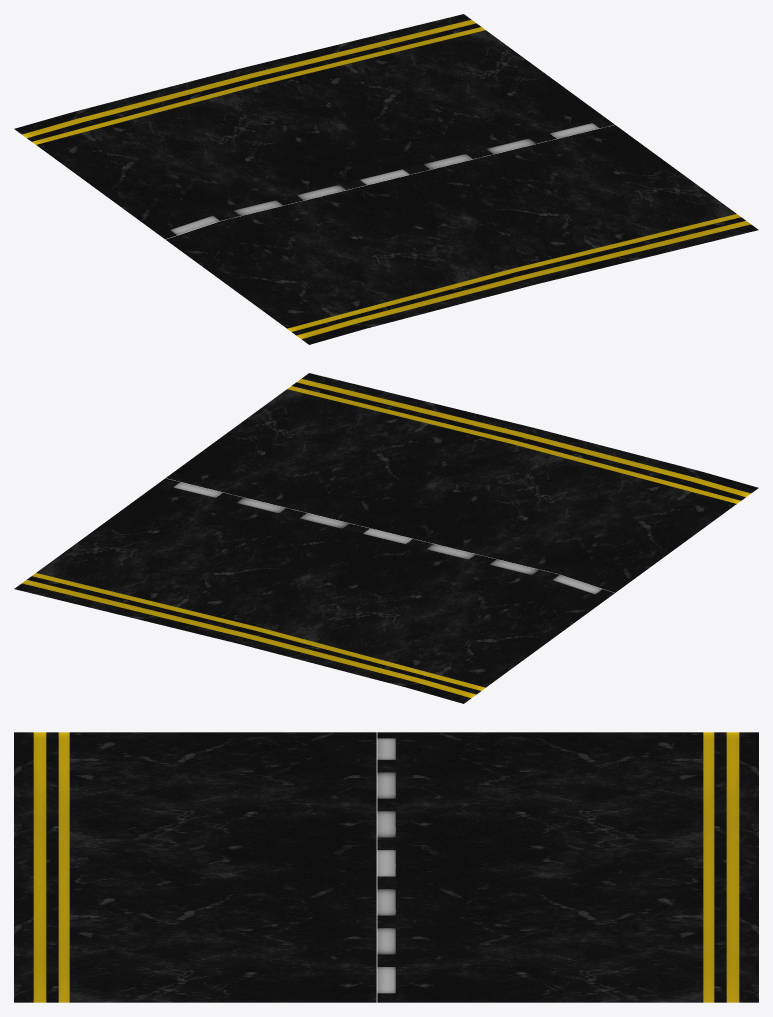
File: RoadLanehorizontal.fbx
3 views of the same model, one above another, from view 1: azimuth 30°, elevation 25°; view 2: azimuth 150°, elevation 25°; view 3: azimuth 270°, elevation 25° (orthographic). The views are drawn at different scales.
Visible parts, largest first — view 1: RoadLaneRight, RoadLaneLeft, DottedLines; view 2: RoadLaneLeft, RoadLaneRight, DottedLines; view 3: RoadLaneLeft, RoadLaneRight, DottedLines.
Part boxes in pixels (box(x1,y1,x2,y2)): RoadLaneRight: box(166, 125, 758, 344); RoadLaneLeft: box(14, 14, 606, 233); DottedLines: box(158, 119, 614, 239); RoadLaneLeft: box(14, 484, 606, 703); RoadLaneRight: box(166, 373, 758, 592); DottedLines: box(158, 478, 614, 598); RoadLaneLeft: box(396, 732, 758, 1002); RoadLaneRight: box(14, 732, 376, 1002); DottedLines: box(377, 732, 396, 1002).
Bounding box in the file's own units: 701 × 7.67 × 797.
1 material, 1 textured.
